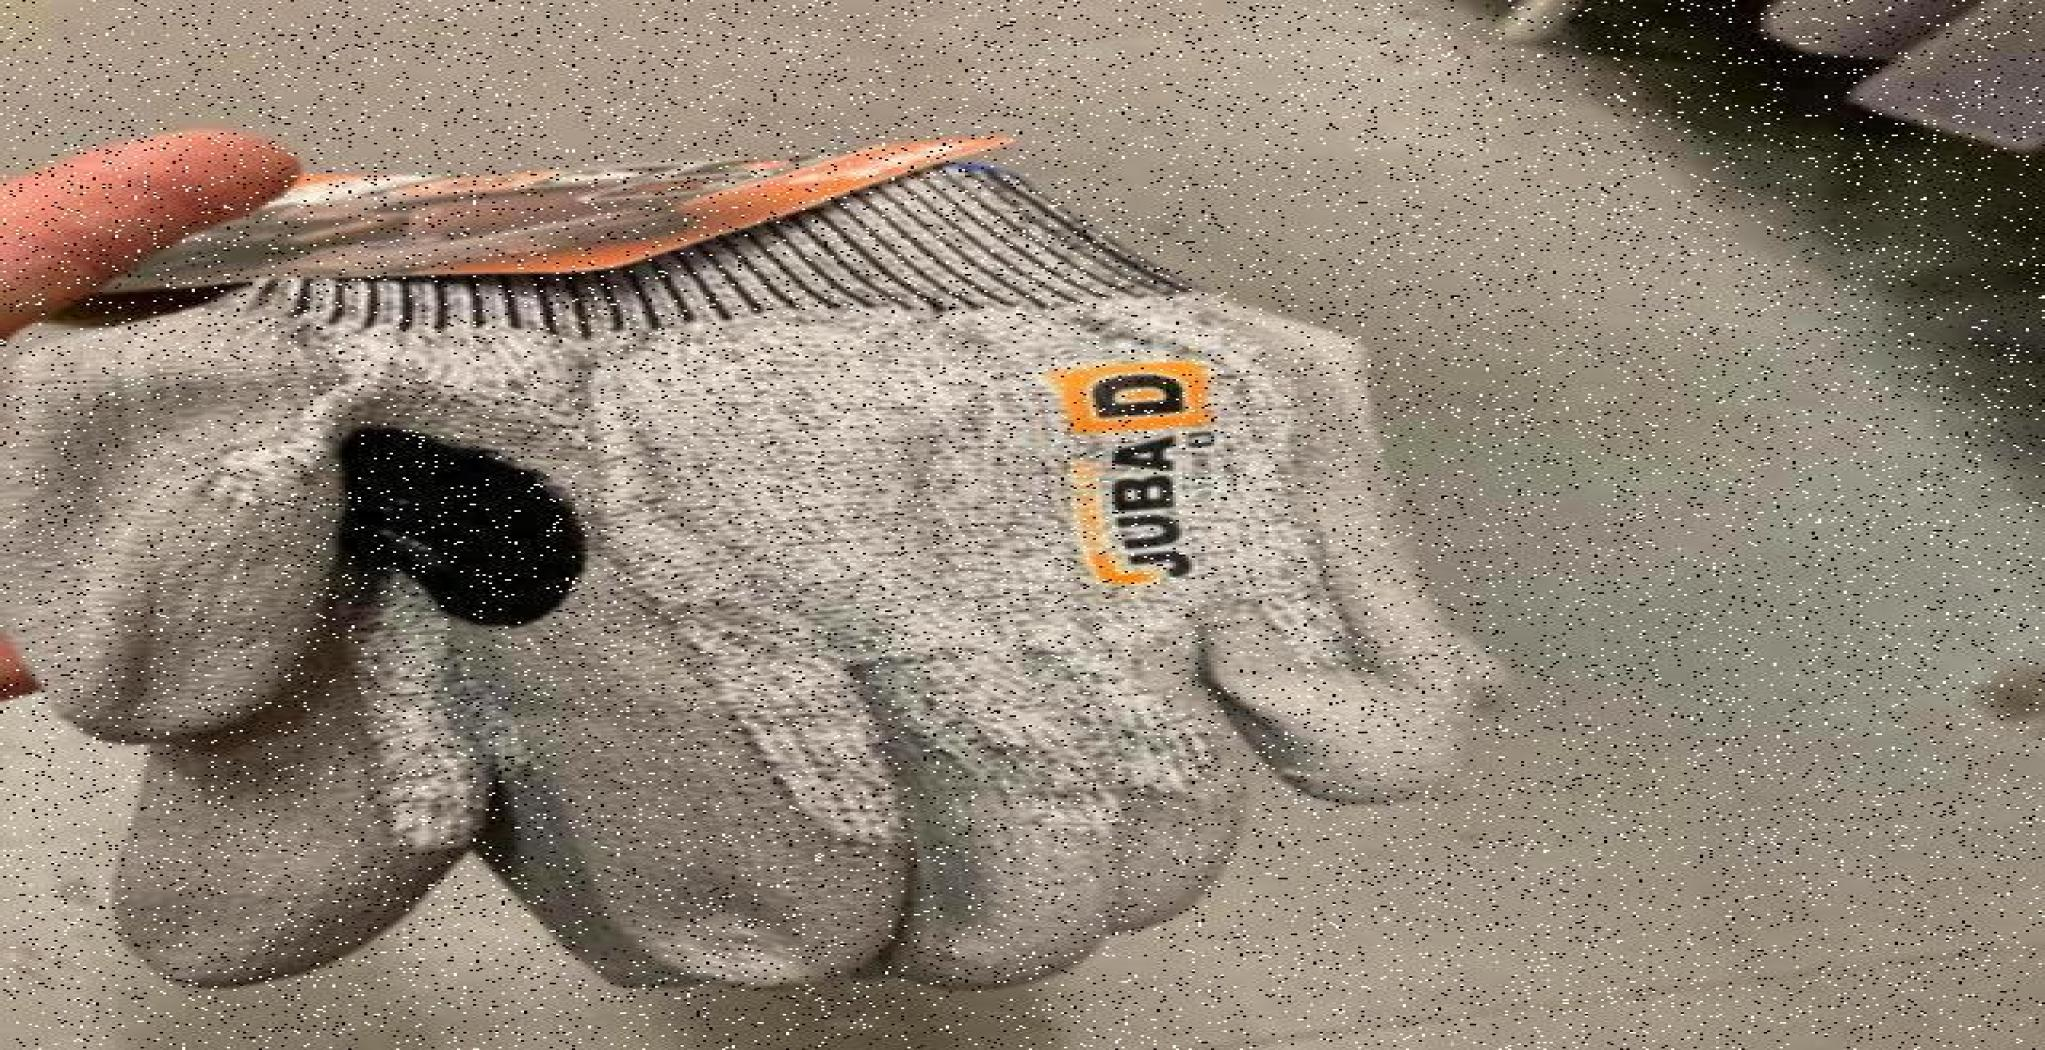gloved: (264, 174, 1398, 944)
